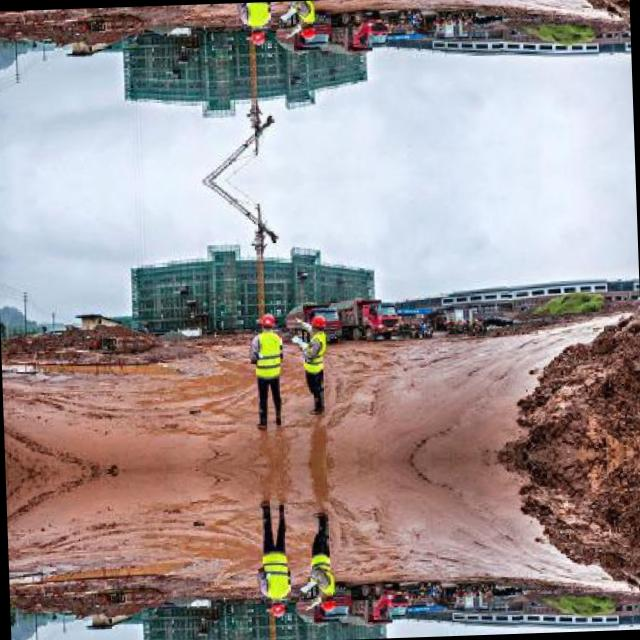helmet: (257, 310, 275, 331), (247, 24, 265, 45), (267, 597, 285, 618), (301, 22, 316, 40), (321, 596, 336, 613), (311, 312, 326, 328)
